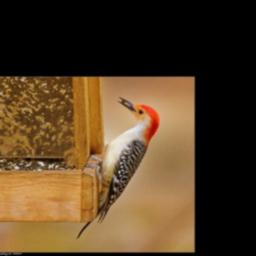Woodpecker: (76, 97, 160, 240)
